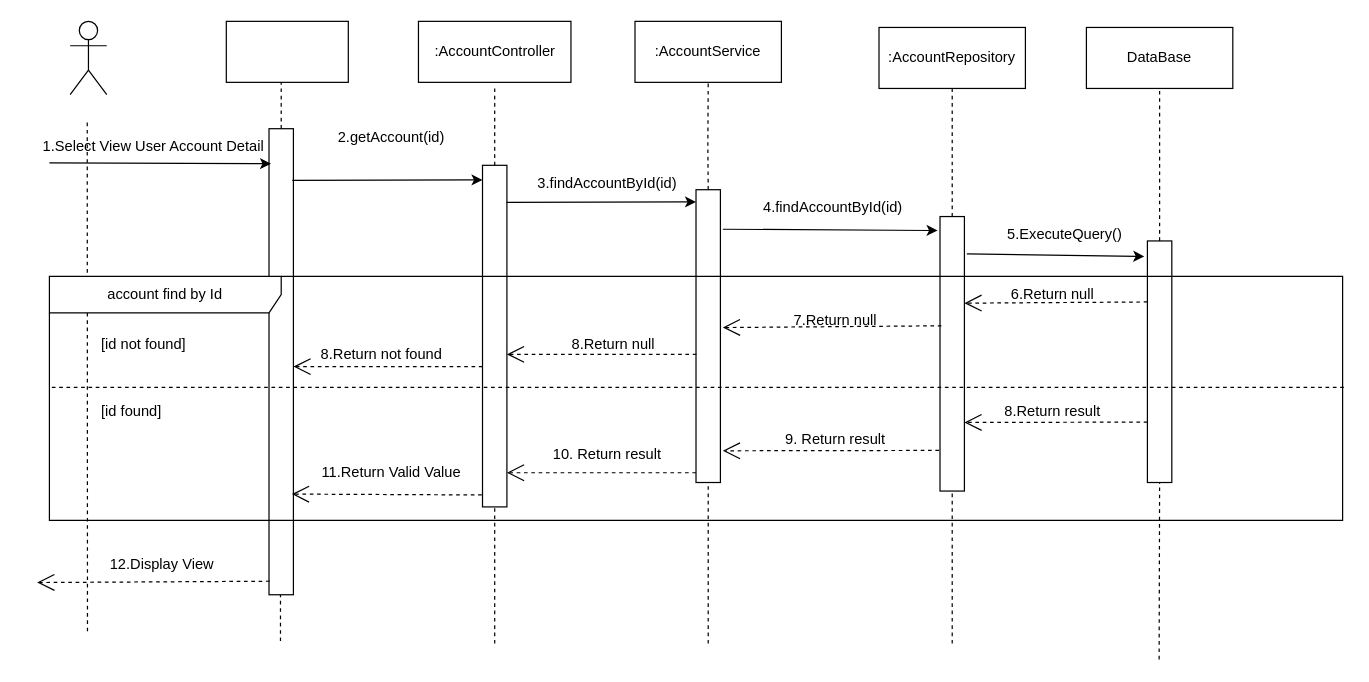
This 1369x682 diagram has some shape labels left out. Each missing label, with the centre of its shape:
"User" belongs at point (88, 57).
"View" belongs at point (286, 51).
